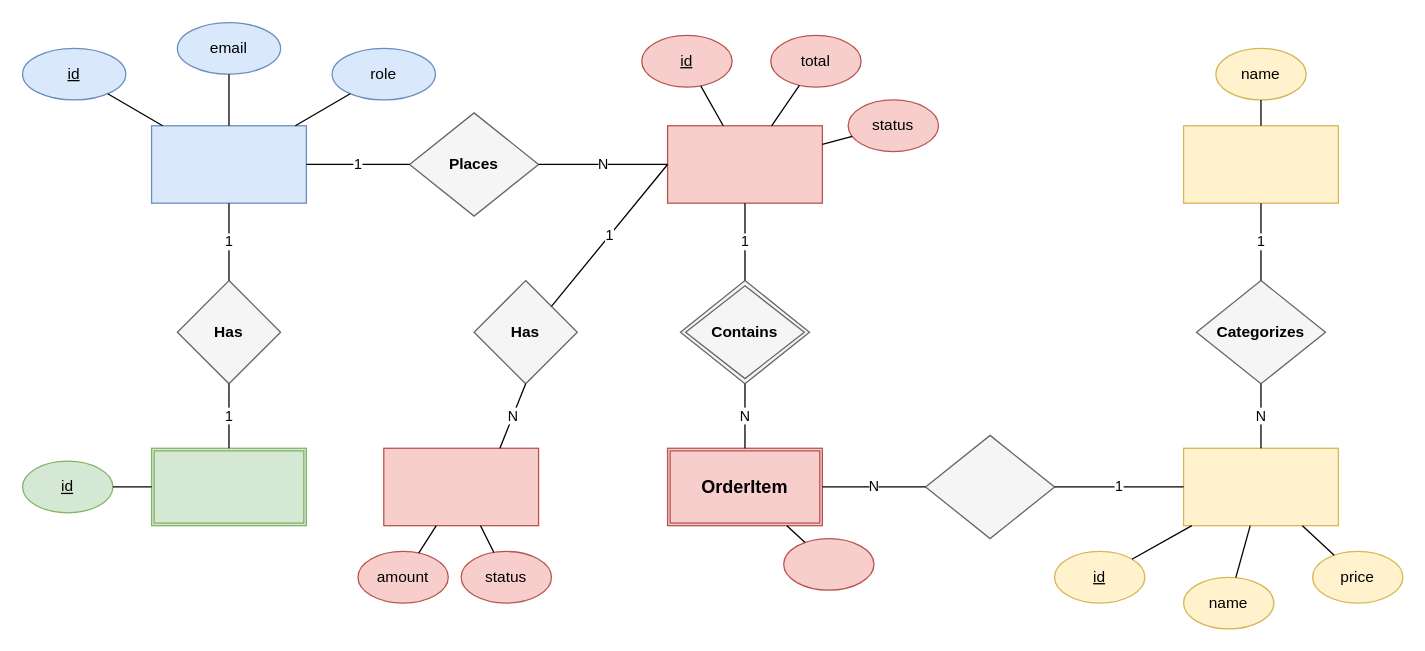
Some shapes in this 1425 by 651 pixel diagram are drawn without their labels. Here are the shapes that lost their labels. From the top down, the centre of each, then its label:
At (x=228, y=163): "User".
At (x=744, y=163): "Order".
At (x=1260, y=163): "Category".
At (x=228, y=486): "Cart".
At (x=460, y=486): "Payment".
At (x=989, y=486): "Lists".
At (x=1260, y=486): "Product".
At (x=828, y=563): "qty".
